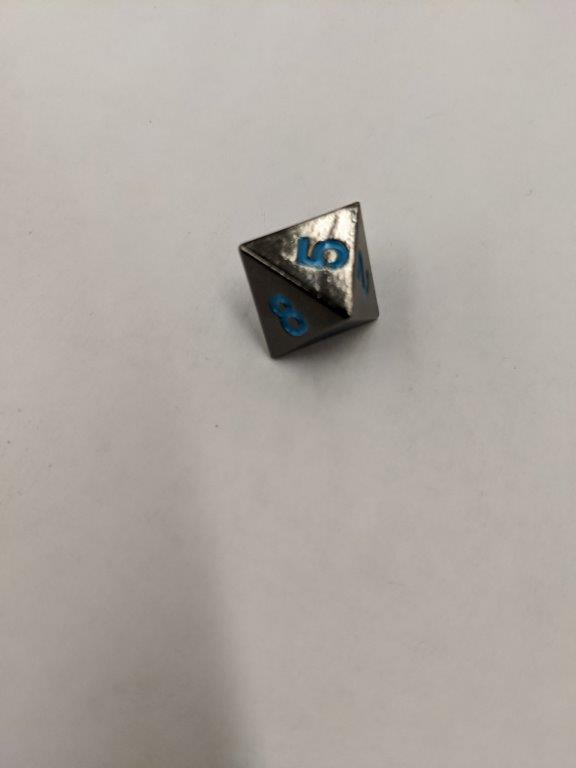d8-5: (240, 201, 382, 361)
